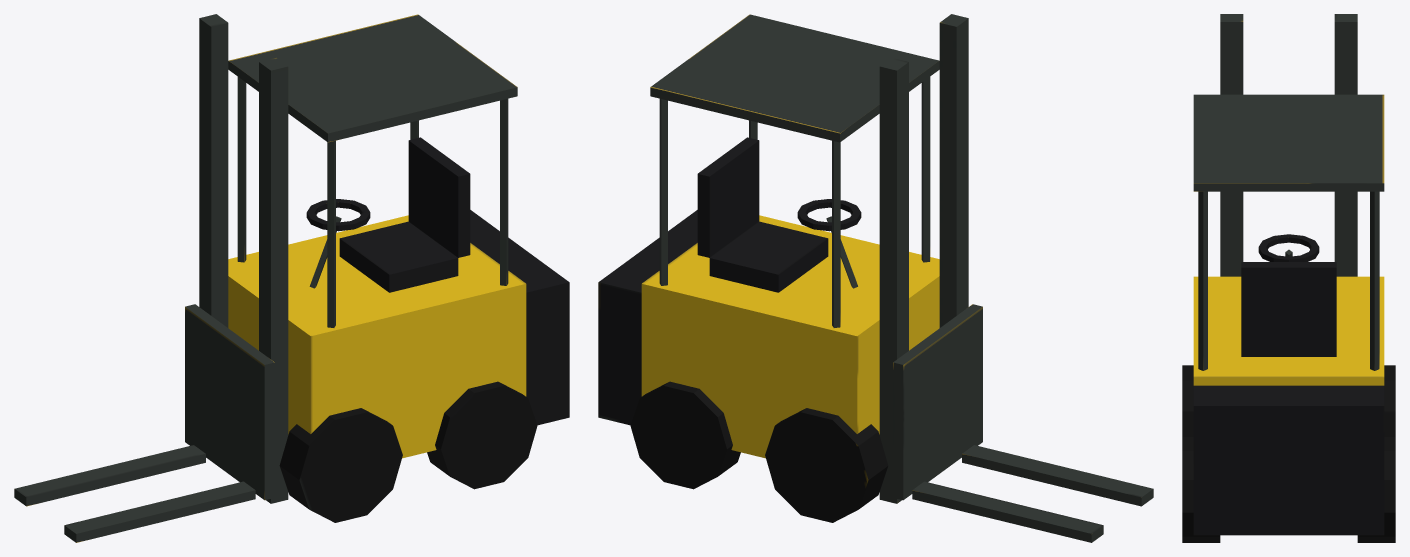
The model's file is vzv_8f502b22.glb.
The picture shows the model from 3 angles, left to right: view 1: azimuth 30°, elevation 25°; view 2: azimuth 150°, elevation 25°; view 3: azimuth 270°, elevation 25°; orthographic projection. The views are drawn at different scales.
Visible parts, largest first — view 1: dum; view 2: dum; view 3: dum.
Part boxes in pixels (box(x1,y1,x2,y2)): dum: box(14, 14, 569, 542); dum: box(598, 14, 1153, 542); dum: box(1182, 14, 1395, 542).
Size of the model in its own units: 2.74 by 2.48 by 1.12.
1 material, 1 textured.
